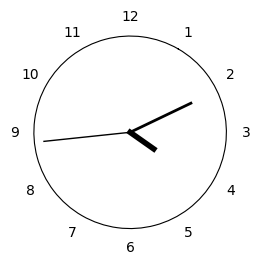12: (122, 10, 139, 23)
circle: (34, 36, 227, 228)
hours: (127, 128, 157, 153)
minutes: (132, 101, 193, 132)
seconds: (43, 132, 128, 142)
